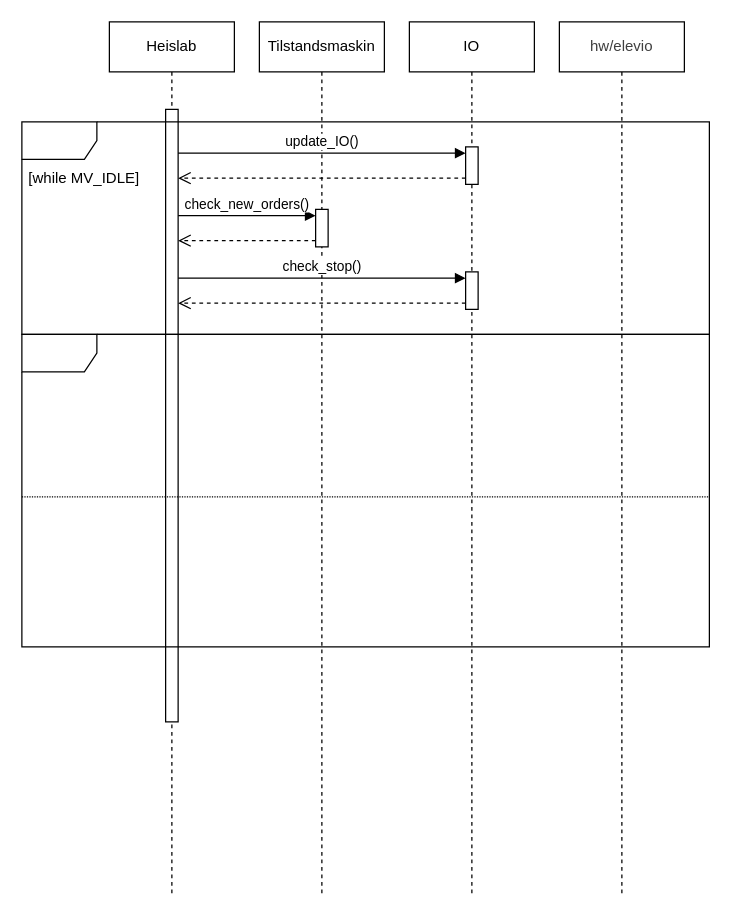
This 733x919 diagram has some shape labels left out. Each missing label, with the box of its shape:
alt: (21, 333, 709, 647)
loop: (21, 121, 709, 334)
